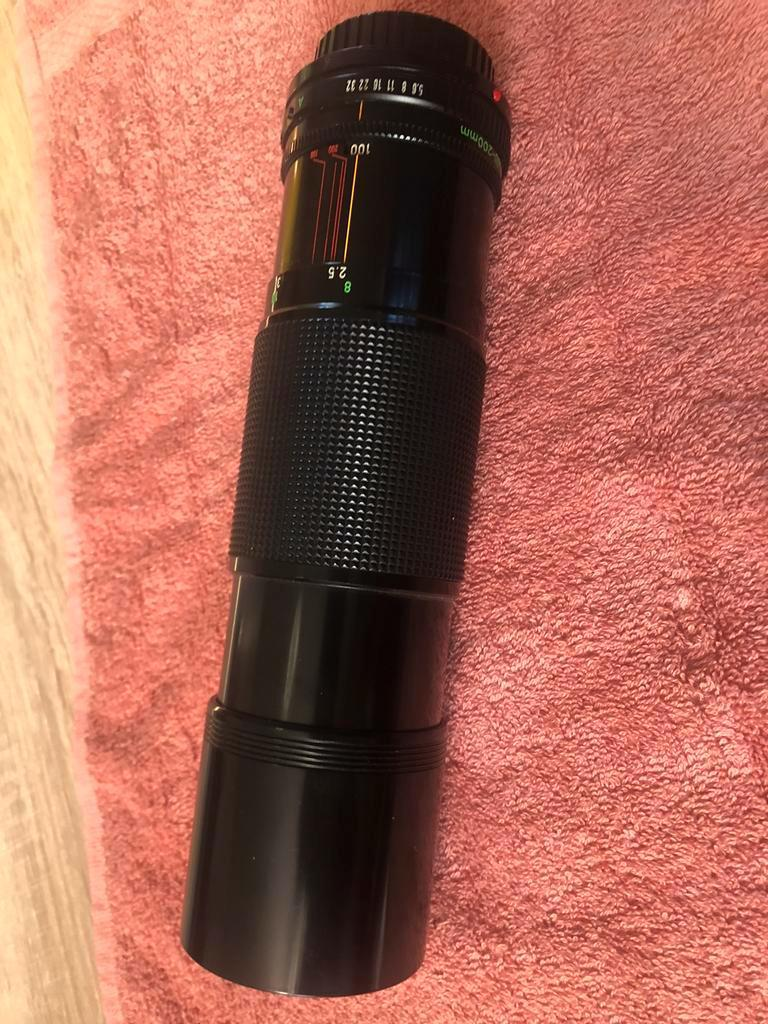lense: (164, 16, 517, 997)
